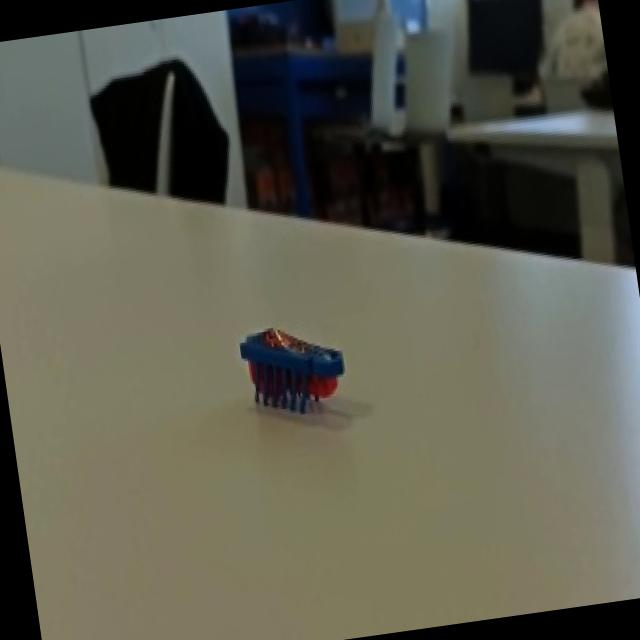1_NanoBug_Azul: (196, 304, 379, 440)
